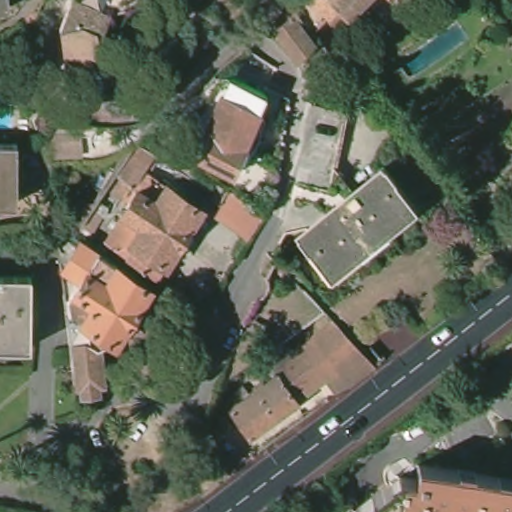pool: (398, 23, 466, 74), (1, 111, 20, 131)
